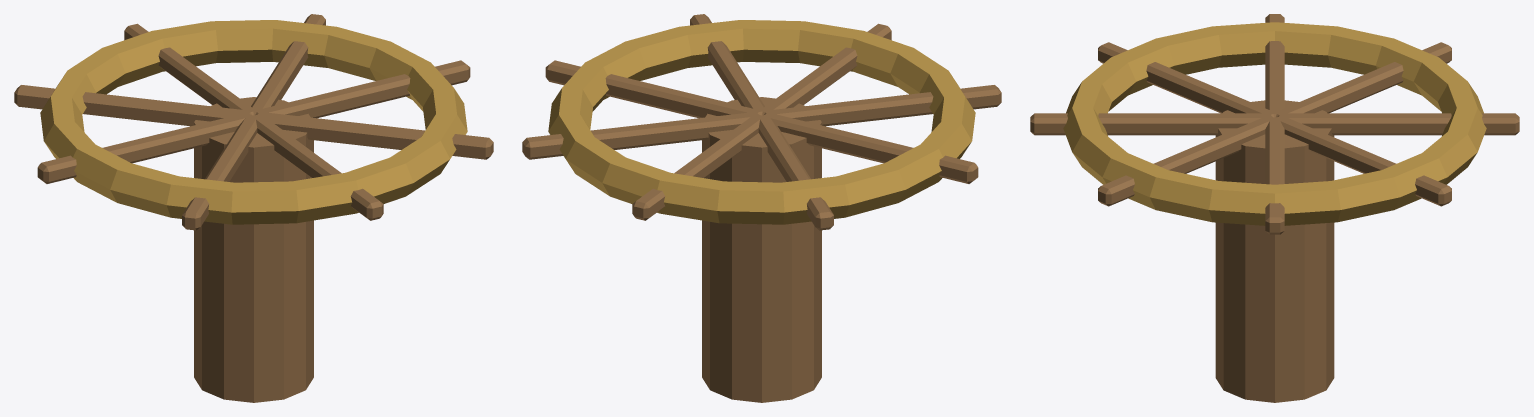
The model's file is equipment-capstan.lod0.glb.
3 views of the same model, side by side, from view 1: azimuth 30°, elevation 25°; view 2: azimuth 150°, elevation 25°; view 3: azimuth 270°, elevation 25° (orthographic).
Visible parts, largest first — view 1: equipment-capstan__wheel, equipment-capstan__body; view 2: equipment-capstan__wheel, equipment-capstan__body; view 3: equipment-capstan__wheel, equipment-capstan__body.
Boxes of the visible parts, box(x1,y1,x2,y2) form: equipment-capstan__wheel: box(14, 14, 493, 230); equipment-capstan__body: box(194, 97, 313, 402); equipment-capstan__wheel: box(522, 14, 1001, 230); equipment-capstan__body: box(702, 97, 821, 402); equipment-capstan__wheel: box(1030, 14, 1519, 234); equipment-capstan__body: box(1215, 100, 1334, 402).
Bounding box in the file's own units: 1.4 × 0.852 × 1.4.
